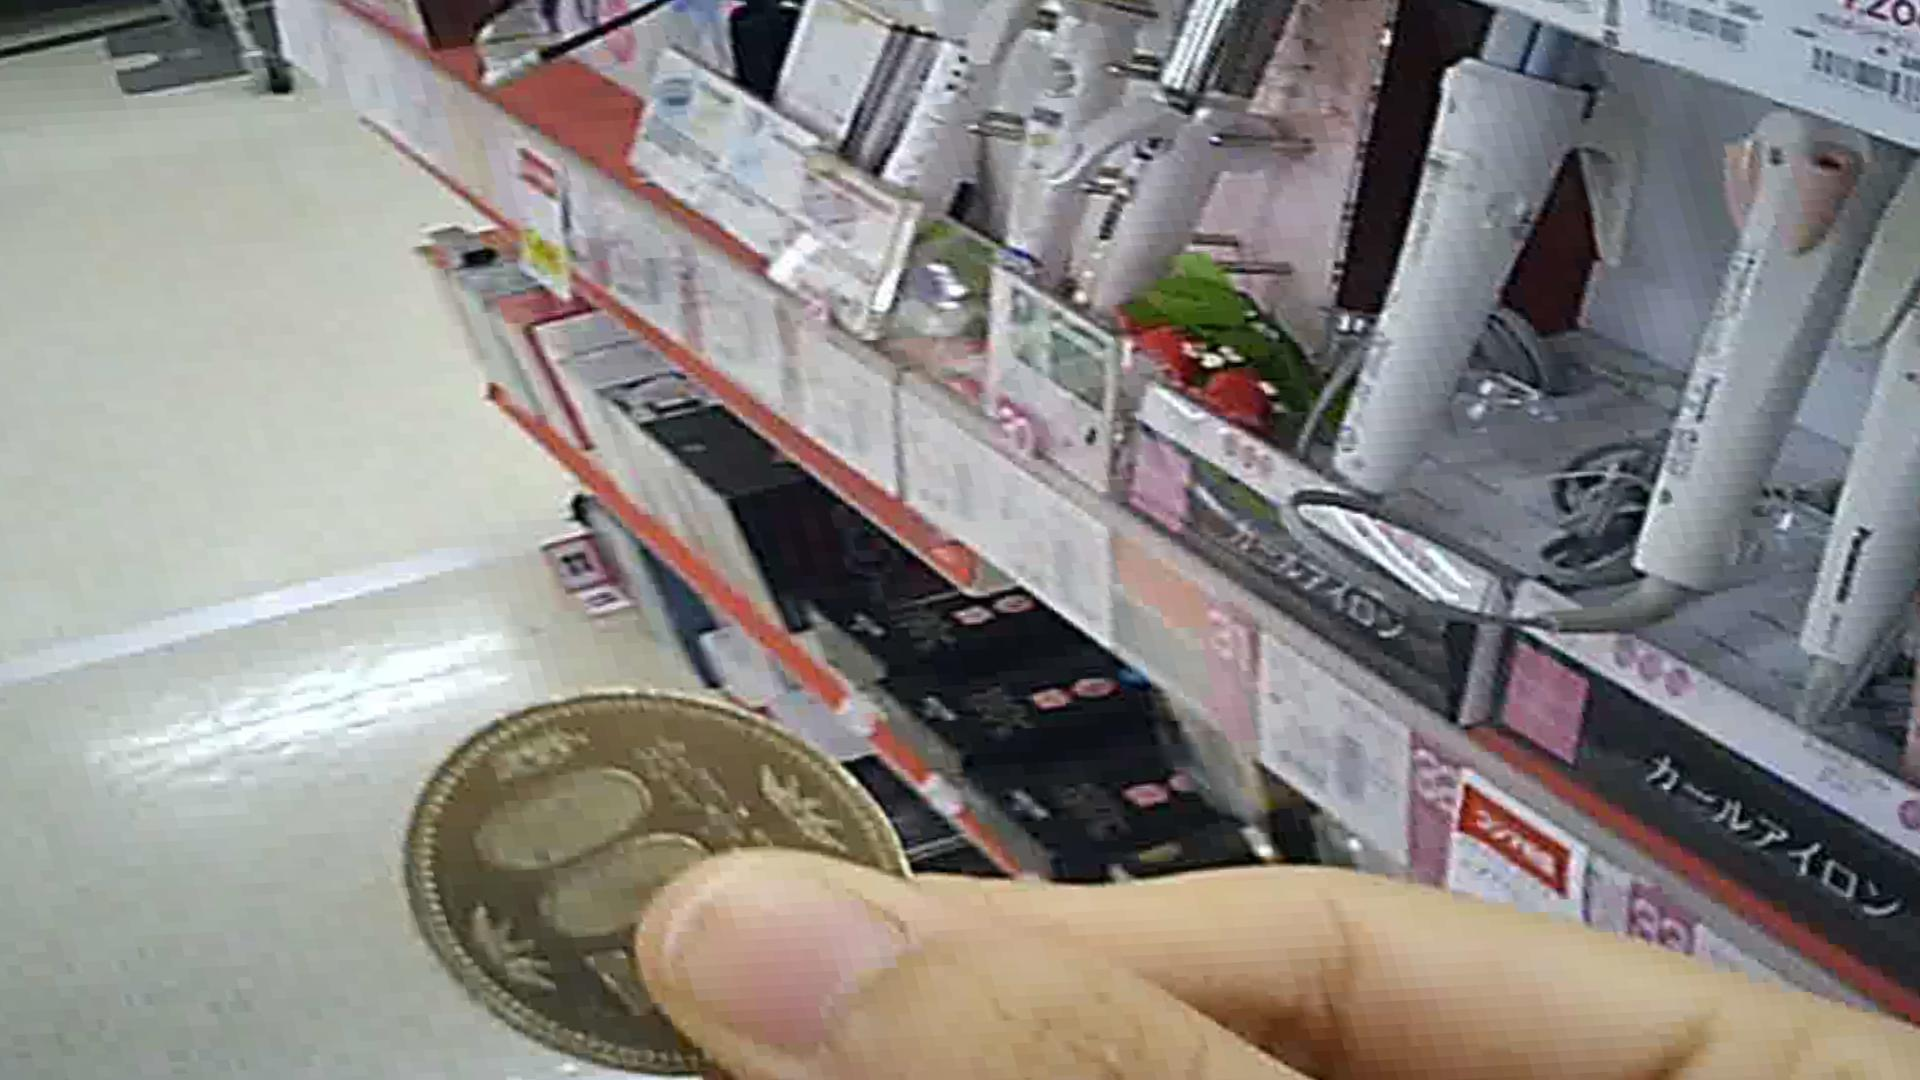500 Yen: (394, 688, 901, 1060)
